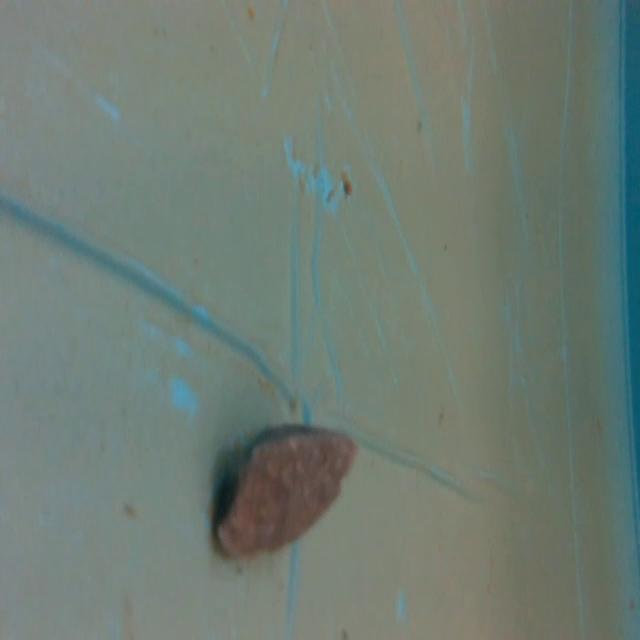rock: (210, 416, 362, 570)
